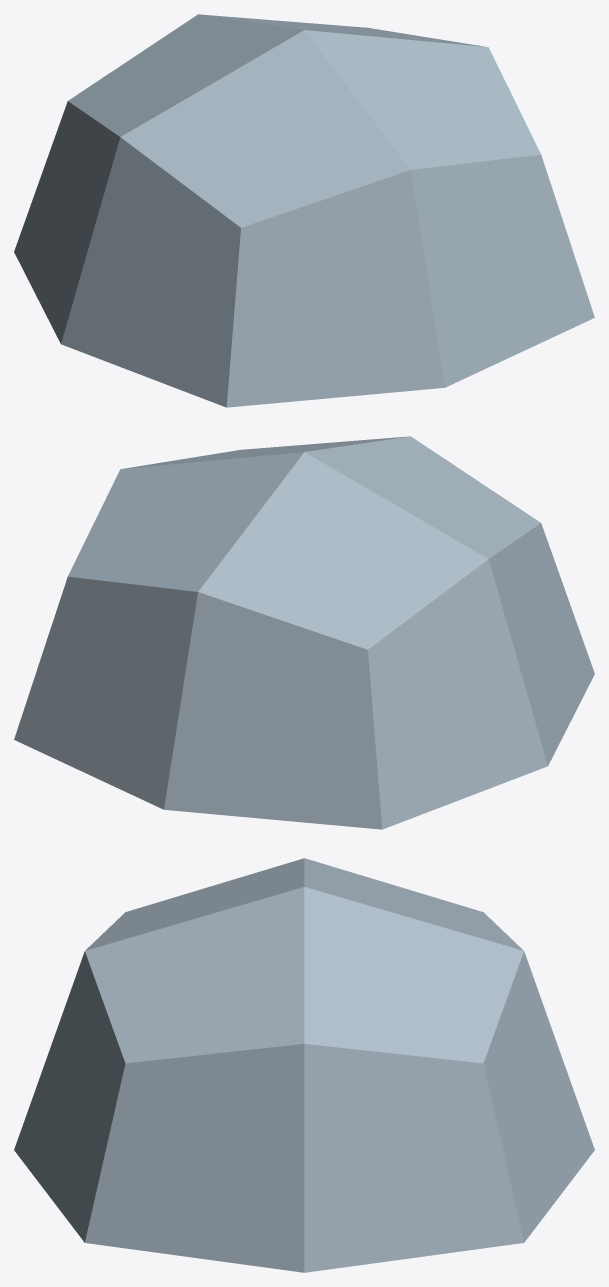
File: Half_Sphere_Low.fbx
3 views of the same model, one above another, from view 1: azimuth 30°, elevation 25°; view 2: azimuth 150°, elevation 25°; view 3: azimuth 270°, elevation 25° (orthographic). The views are drawn at different scales.
Parts seen in each view (by area): view 1: Half_Sphere_Low; view 2: Half_Sphere_Low; view 3: Half_Sphere_Low.
Boxes of the visible parts, bbox=[...] form: Half_Sphere_Low: bbox=[14, 14, 594, 407]; Half_Sphere_Low: bbox=[14, 436, 594, 829]; Half_Sphere_Low: bbox=[14, 858, 594, 1272].
Size of the model in its own units: 11.97 by 5.98 by 11.97.
